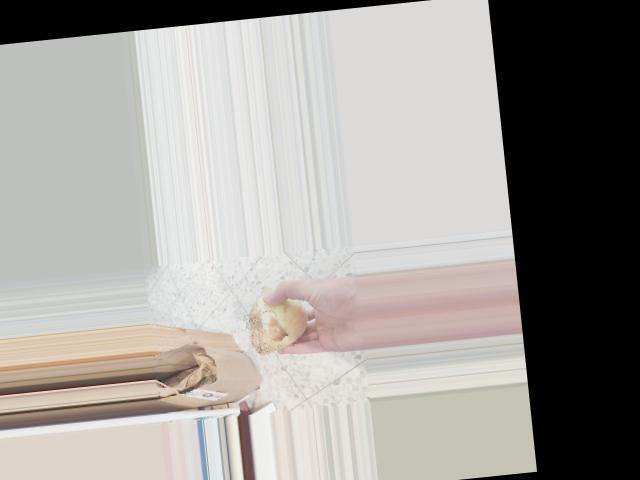onion: (242, 285, 313, 356)
